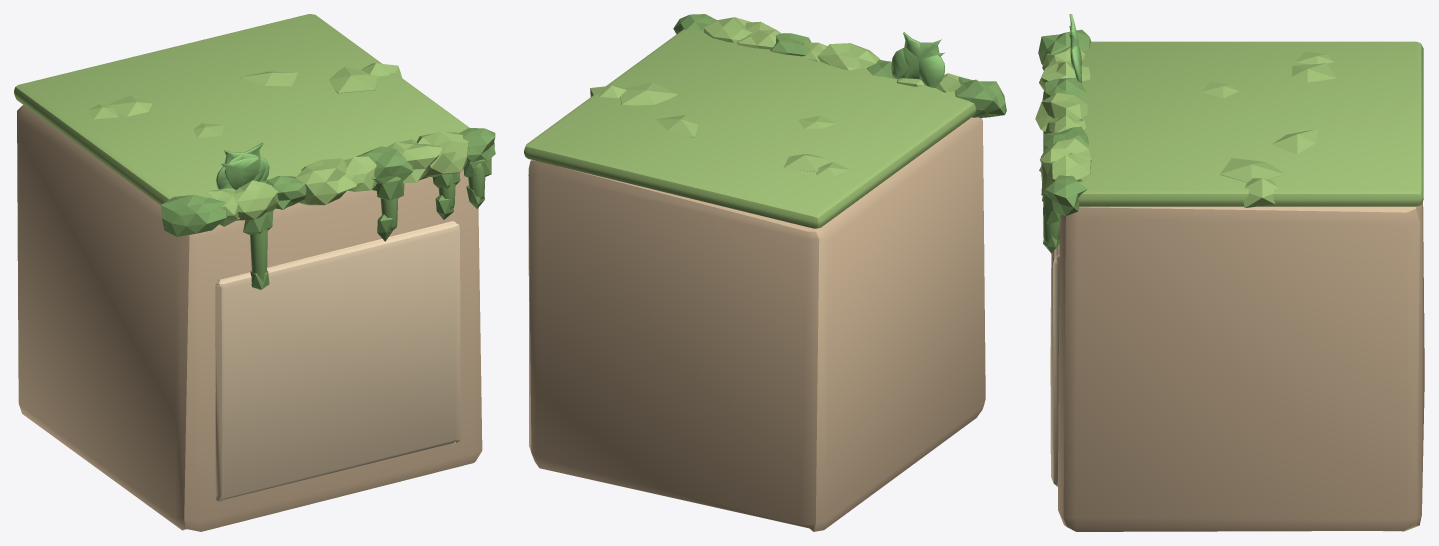
The model's file is tile_moss.glb.
The picture shows the model from 3 angles, left to right: view 1: azimuth 30°, elevation 25°; view 2: azimuth 150°, elevation 25°; view 3: azimuth 270°, elevation 25°; orthographic projection. The views are drawn at different scales.
Visible parts, largest first — view 1: tile_moss; view 2: tile_moss; view 3: tile_moss.
Part boxes in pixels (left/top/right/bottom): tile_moss: left=14, top=14, right=495, bottom=531; tile_moss: left=524, top=14, right=1006, bottom=531; tile_moss: left=1035, top=14, right=1424, bottom=531.
Bounding box in the file's own units: 1.1 × 1.19 × 1.07.
